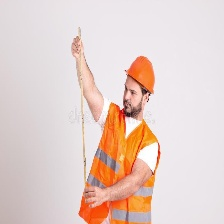helmet: (123, 54, 156, 105)
person: (76, 55, 162, 224)
vest: (94, 105, 161, 223)
